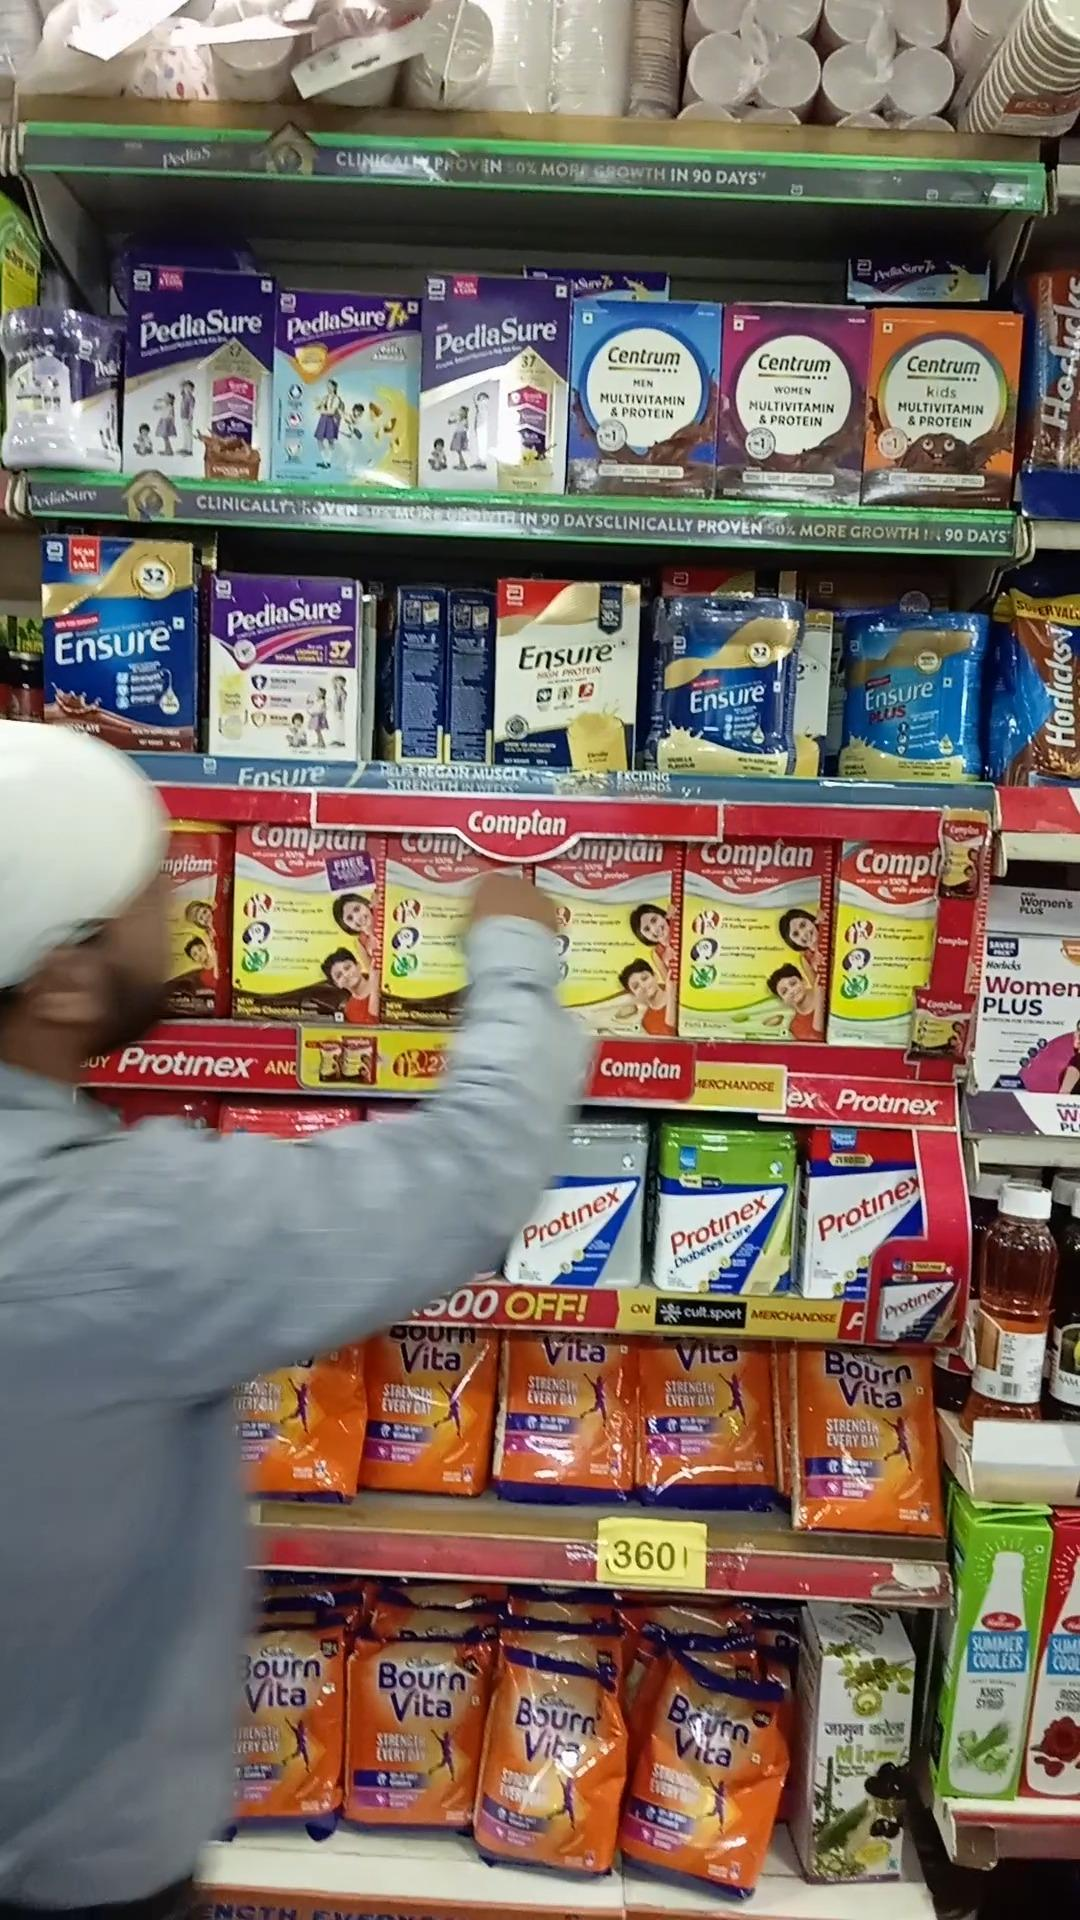BOURN_VITA_750_G_POUCH: (790, 1341, 940, 1539), (636, 1658, 753, 1902), (483, 1652, 605, 1879), (349, 1626, 469, 1833), (500, 1328, 630, 1502), (641, 1341, 774, 1507), (368, 1327, 487, 1494)
COMPLAN_CHOCOLATE_500_GMS_PACK: (235, 825, 380, 1022)
COMPLAN_PISTA_BADAM_500_GMS_PACK: (686, 843, 824, 1040)
ENSURE_VANILLA_400_G_PACK: (496, 579, 640, 769)
PEDIASURE_CHOCOLATE_500_G_PACK: (129, 269, 273, 480)
PEDIASURE_VANILLA_500_G_PACK: (422, 274, 564, 493)
PROTINEX_ORIGINAL_400_G_JAR: (517, 1127, 647, 1283)
